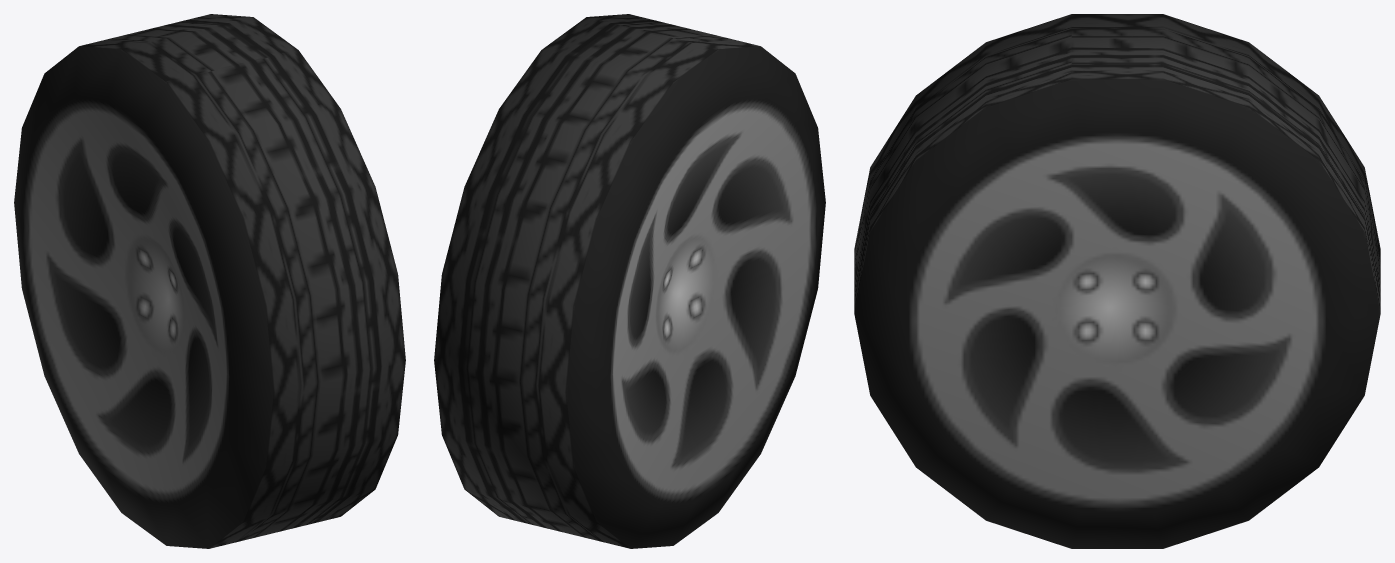
The model's file is fox_super500_wheel.obj.
3 views of the same model, side by side, from view 1: azimuth 30°, elevation 25°; view 2: azimuth 150°, elevation 25°; view 3: azimuth 270°, elevation 25° (orthographic).
Parts seen in each view (by area): view 1: wheel_Cylinder01x.015; view 2: wheel_Cylinder01x.015; view 3: wheel_Cylinder01x.015.
Boxes of the visible parts, x1=… form: wheel_Cylinder01x.015: x1=14, y1=14, x2=405, y2=548; wheel_Cylinder01x.015: x1=434, y1=14, x2=825, y2=548; wheel_Cylinder01x.015: x1=854, y1=14, x2=1380, y2=548.
Bounding box in the file's own units: 0.7576 × 2 × 2.03.
Materials: 1 (1 with a texture image).
